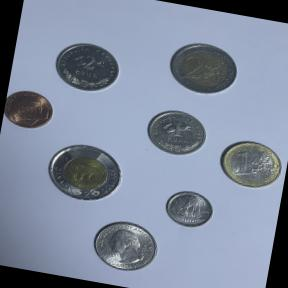1 Euro: (212, 134, 288, 194)
2 Euro: (160, 34, 248, 102)
Canda-10cent-: (159, 184, 221, 234)
Canda-2Dollar-: (37, 137, 128, 210)
Croatia-2Kune-: (46, 34, 126, 100)
US-1cent-: (1, 86, 58, 134)
US-25cent-: (86, 214, 163, 278)
